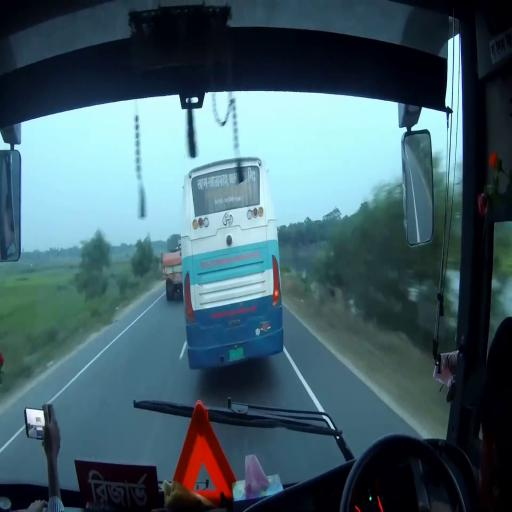bus: (182, 162, 285, 373)
truck: (162, 245, 181, 302)
